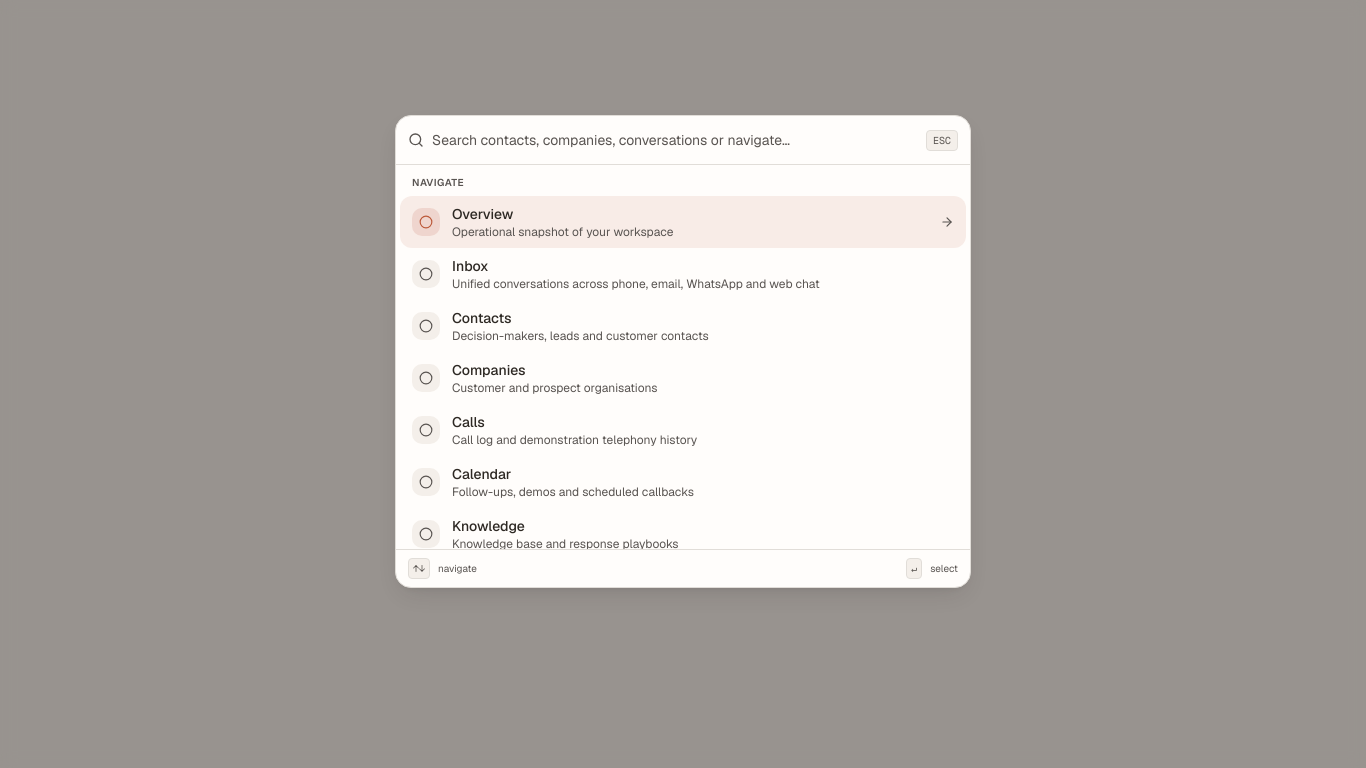
CommandPalette › shows contacts from the demo data
Type "Eleanor" into the field named "Command palette search". click: (675, 140)
box: [432,116,918,164]
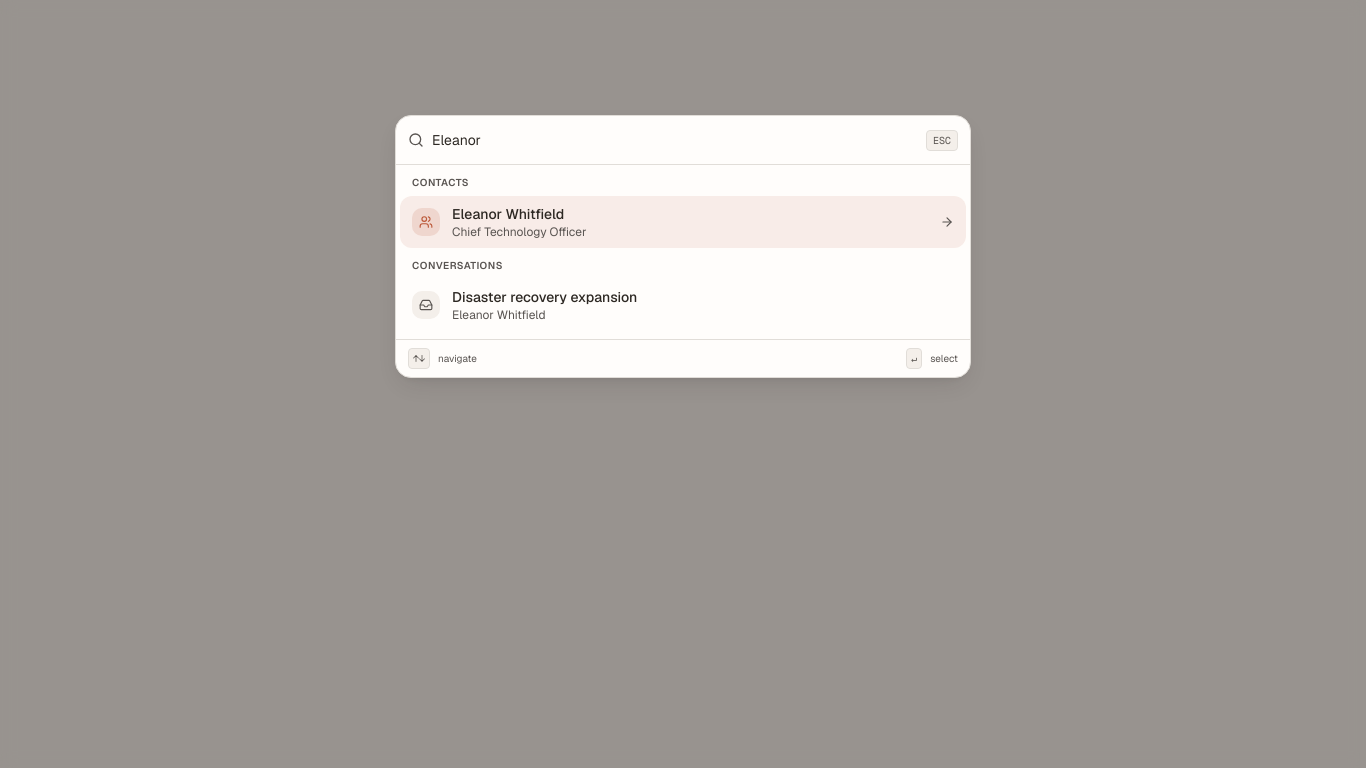
Expected: the text "Eleanor Whitfield" below "Contacts" is shown, [452,205,564,223]
